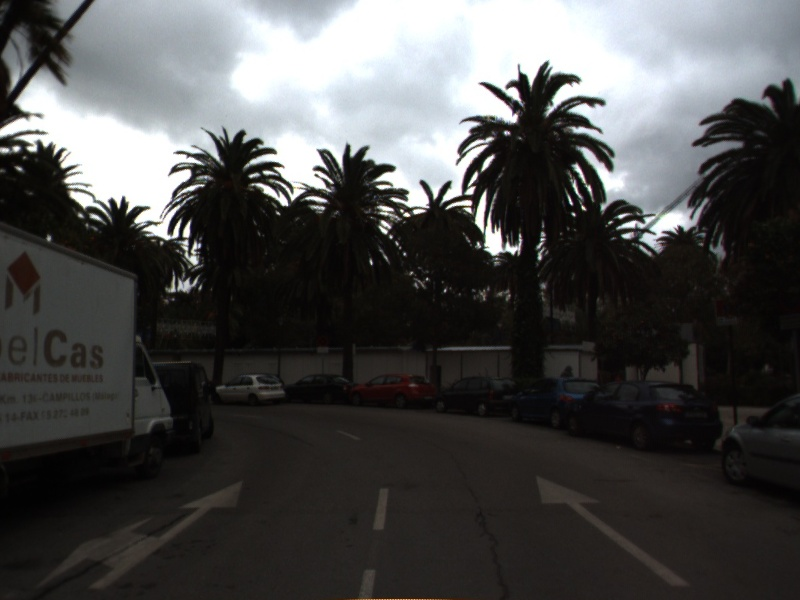STRAIGHT: (535, 474, 693, 589)
STRAIGHT_LEFT: (34, 477, 246, 593)
